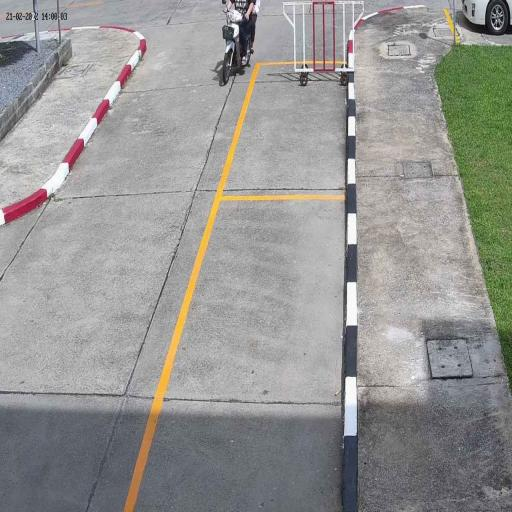motorcycle: (221, 7, 242, 83)
